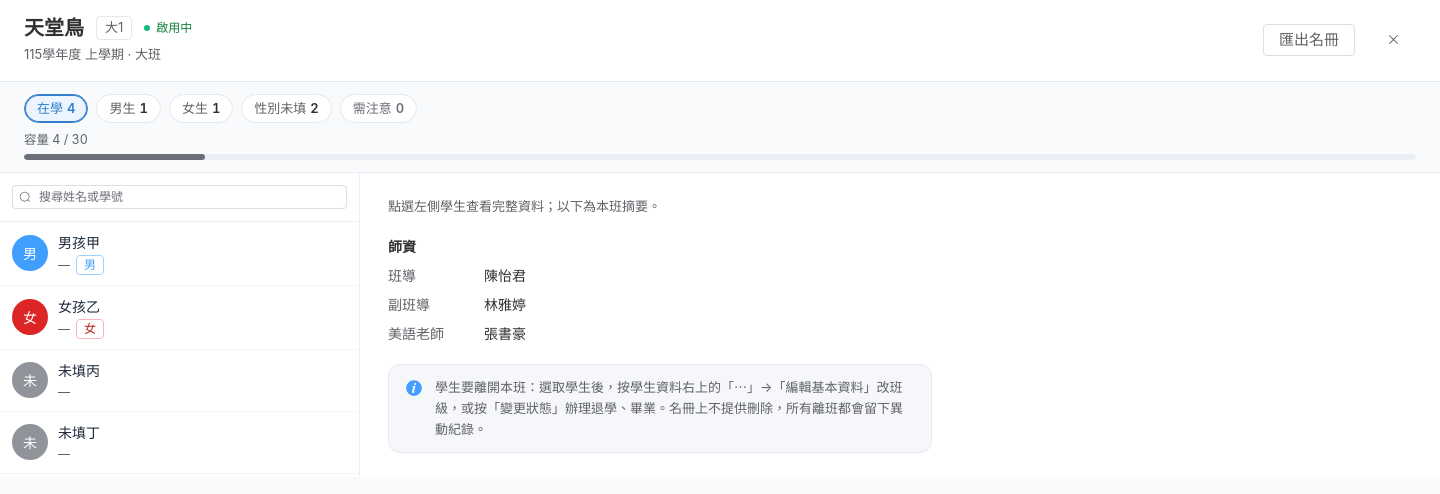
Test case: ClassroomStudentDrawer 第二輪改版 › 性別篩選只剩統計 pill（移除重複的 radio group） › 男／女 pill 計數不含未填學生，且未填學生不會混進男生篩選
This screenshot has width=1440, height=494.
expect the button with class "stat-pill--danger" shows "1": met, box [169,94,233,123]
Click the button with class "stat-pill--info": (129, 108) [96,94,161,123]
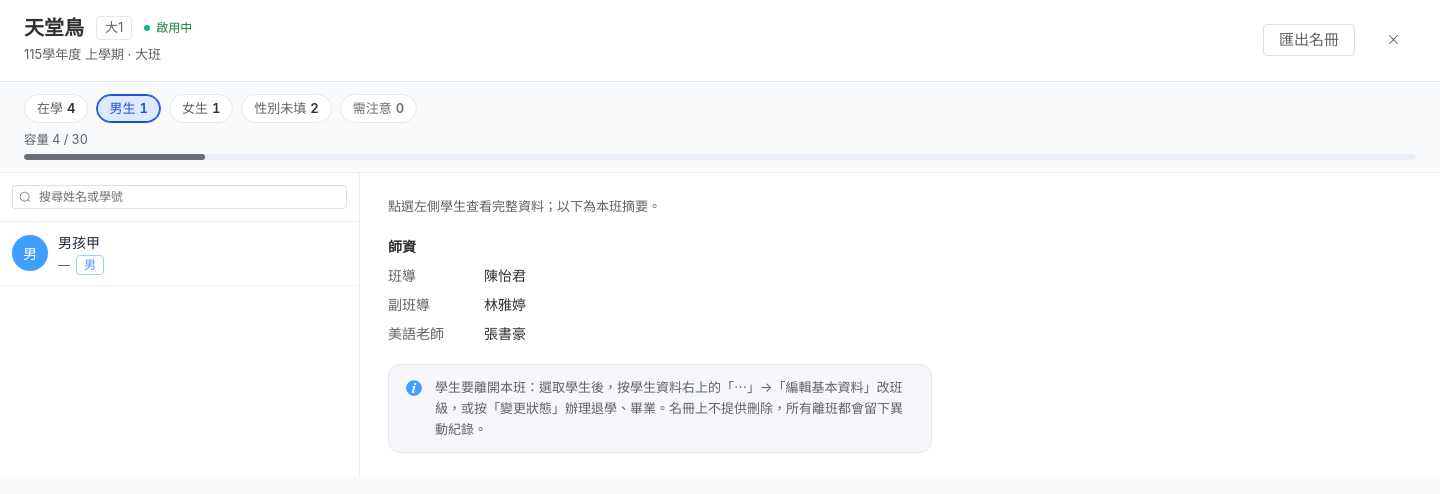
expect the element with class "roster-list" shows "男孩甲": met, box [58,234,100,251]
expect the option with class "roster-list" no longer shows "未填丙": met
